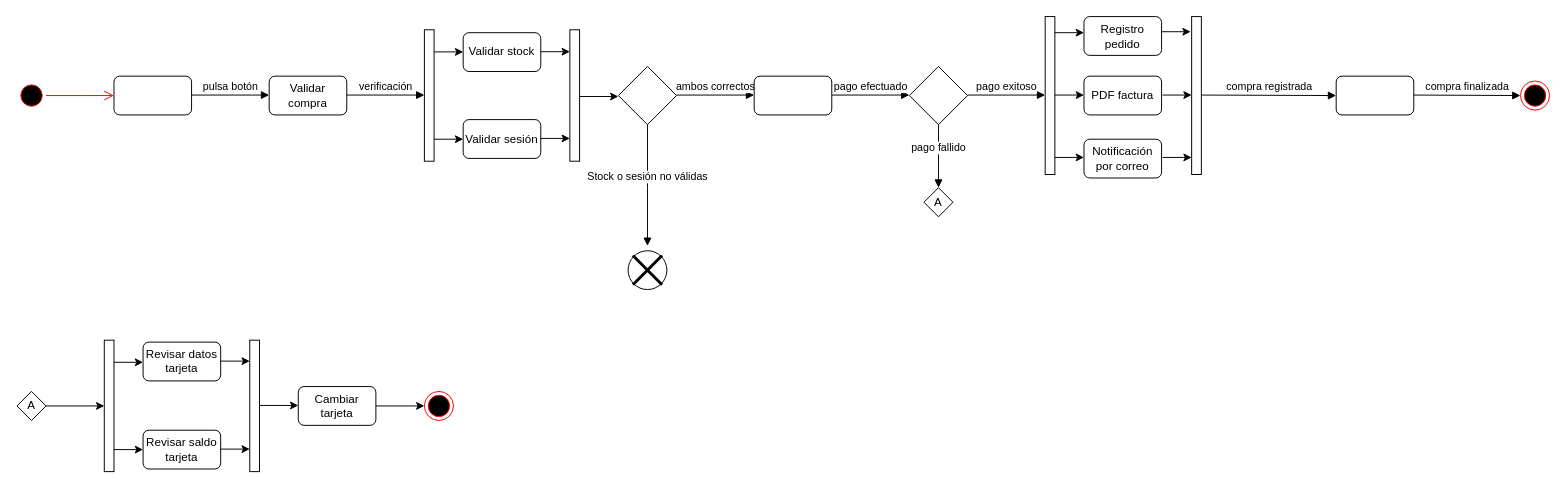
Image size: 1567x490. Some labels were removed from this diagram. The shapes that lost their labels are listed below. From the top down, each one's centre as x and y in pixels, then its label:
the point at 152,95: Finalizar compra
the point at 792,95: Pagar 1
the point at 1374,95: Mostrar mensaje
